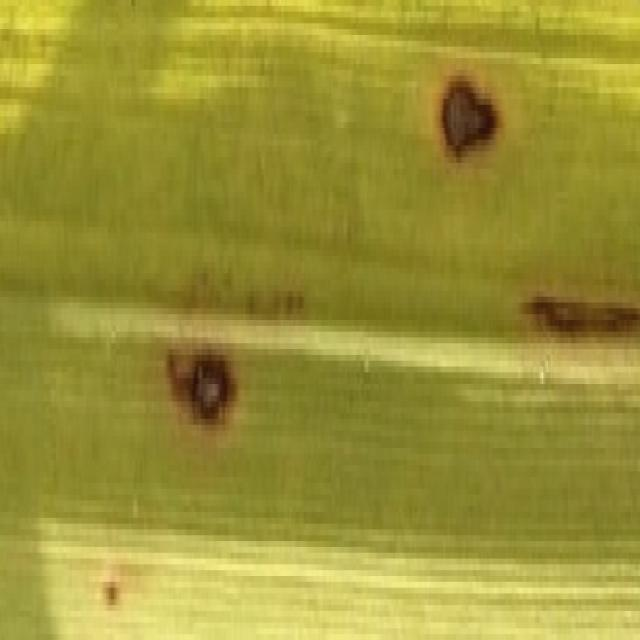brown spot: (420, 36, 527, 204), (507, 262, 640, 372), (161, 315, 245, 454), (89, 553, 130, 638)
